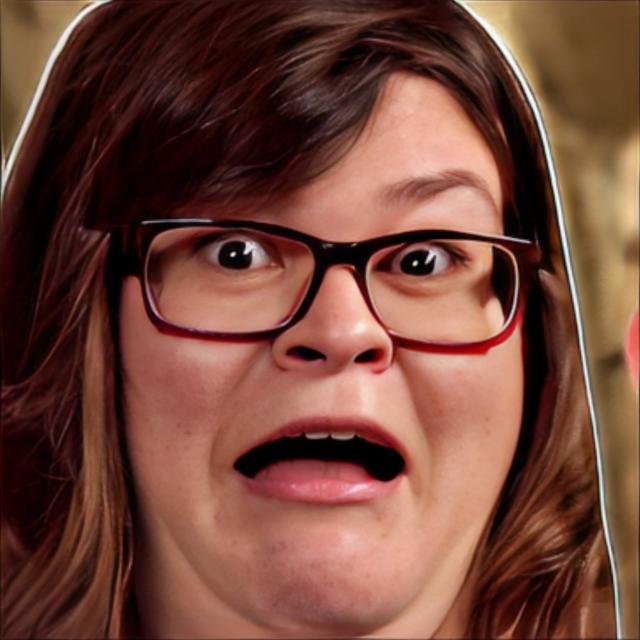Fear: (120, 62, 524, 640)
